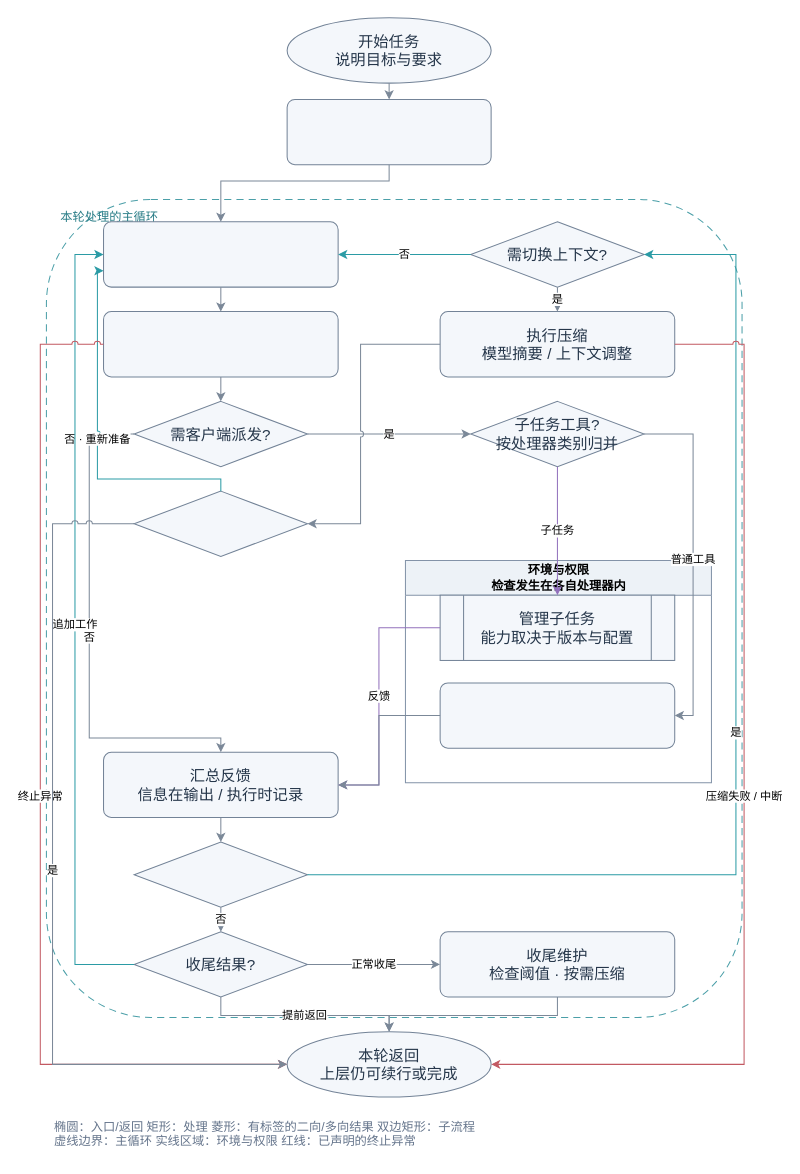
This 800x1174 diagram has some shape labels left out. The centre of each missing label's shape, as x and y in pixels:
启动检查阻断?: point (220, 523)
执行工具 读写文件 · 命令 · 外部服务: point (557, 715)
整理上下文 任务要求 · 已有结果: point (220, 254)
调用模型 装配输入 · 流式处理: point (220, 344)
运行准备 项目目录 · 模型 · 工具: point (388, 131)
还需处理?: point (220, 874)
